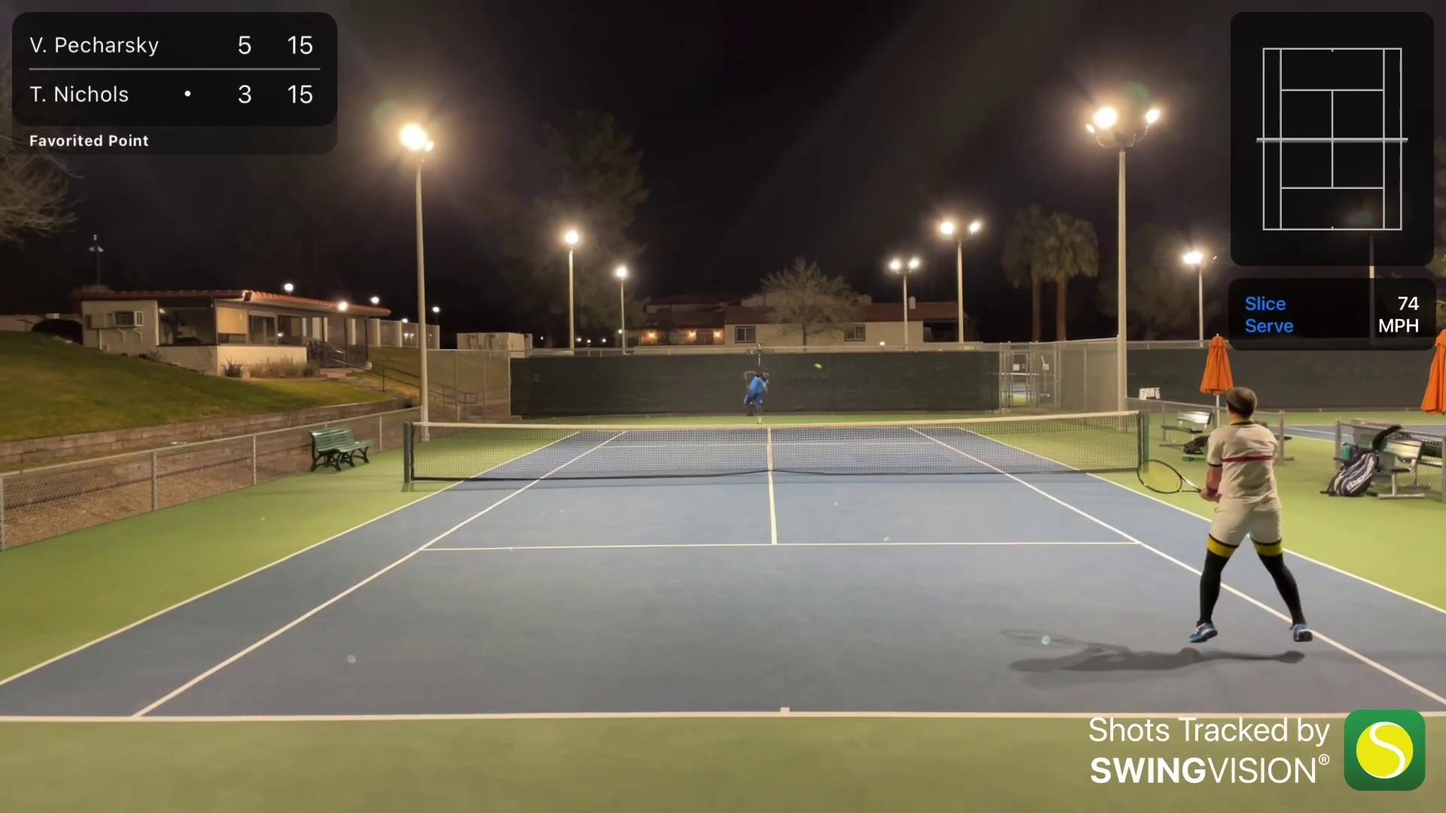ball: (811, 361, 824, 370)
